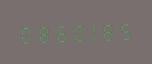eight: (34, 21, 50, 44), (102, 19, 118, 42)
five: (119, 18, 135, 41)
one: (85, 19, 101, 43)
six: (51, 20, 67, 44)
zero: (17, 22, 33, 45), (68, 20, 84, 43)
